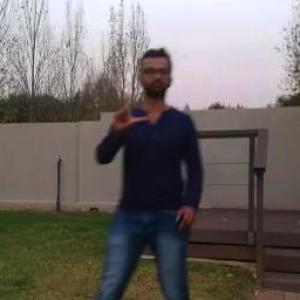land_hand: (110, 89, 149, 131)
